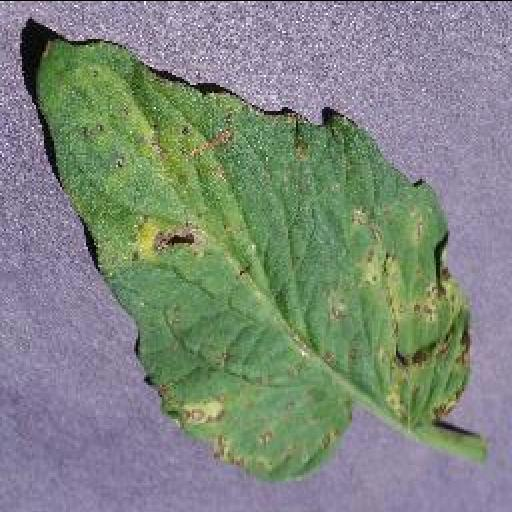disease_tomato: (34, 38, 472, 478)
